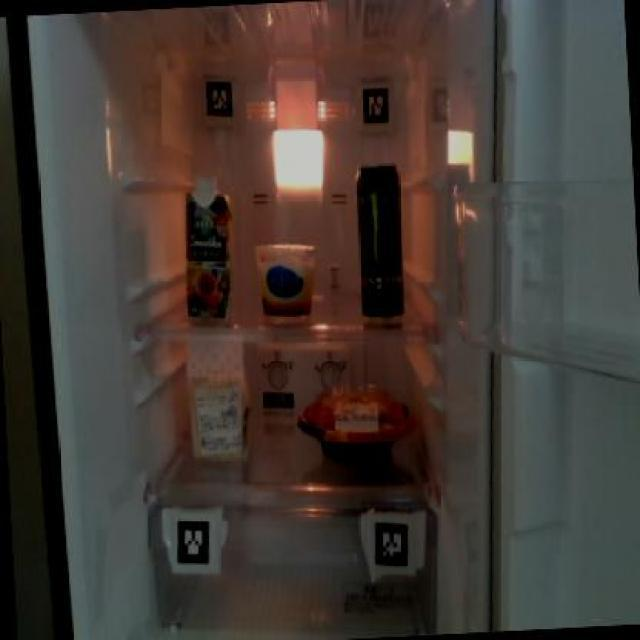bento: (294, 379, 418, 468)
can: (352, 160, 406, 322)
pudding: (253, 236, 318, 318)
sandwich: (179, 329, 256, 463)
smoothie: (178, 170, 239, 318)
